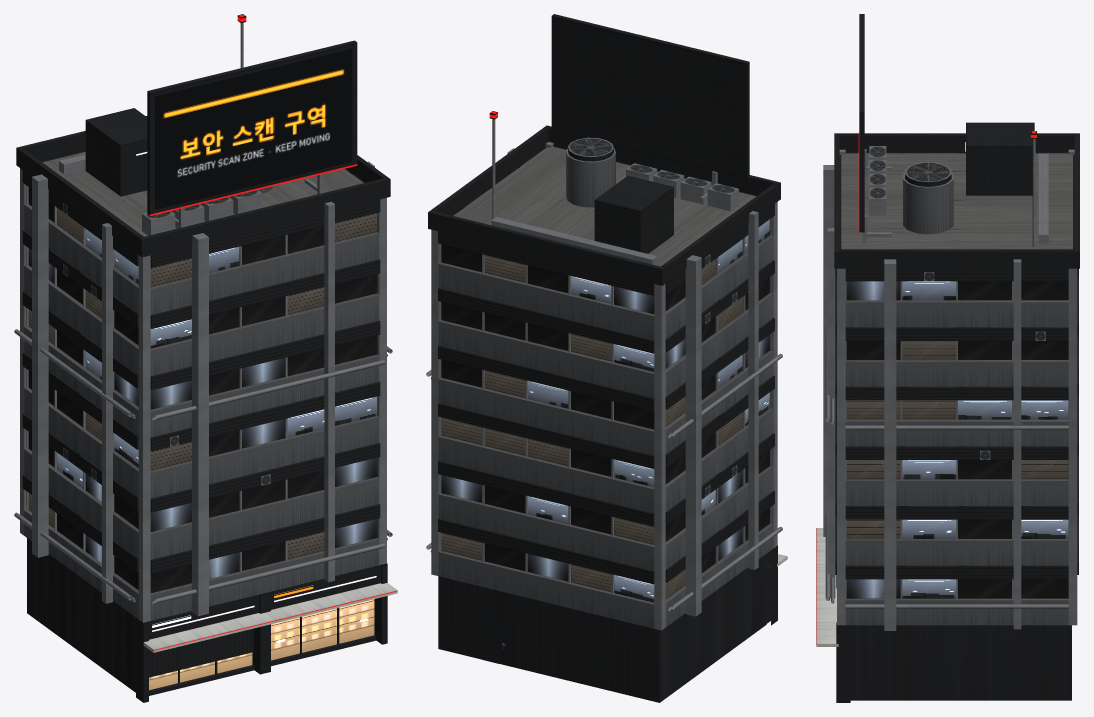
File: SM_INFD_BlockD_2.fbx
The picture shows the model from 3 angles, left to right: view 1: azimuth 30°, elevation 25°; view 2: azimuth 150°, elevation 25°; view 3: azimuth 270°, elevation 25°; orthographic projection. The views are drawn at different scales.
Visible parts, largest first — view 1: SM_INFD_BlockD_2_LOD0; view 2: SM_INFD_BlockD_2_LOD0; view 3: SM_INFD_BlockD_2_LOD0.
Part boxes in pixels (x1,y1,x2,y2): SM_INFD_BlockD_2_LOD0: (14,14,397,702); SM_INFD_BlockD_2_LOD0: (426,14,787,702); SM_INFD_BlockD_2_LOD0: (816,14,1079,702).
Size of what is drawn, in the model's own units: 17.6 by 37.4 by 15.37.
